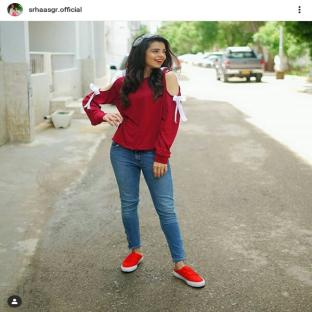Human: (82, 33, 204, 287)
